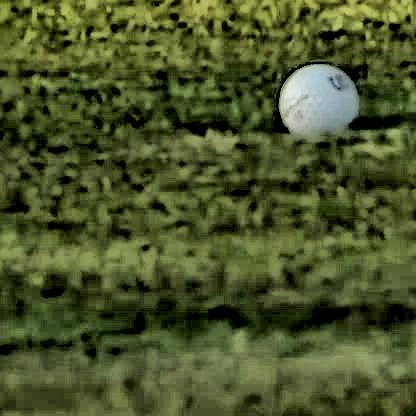golfball: (272, 60, 355, 140)
